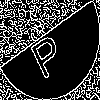P: (25, 25, 66, 81)
